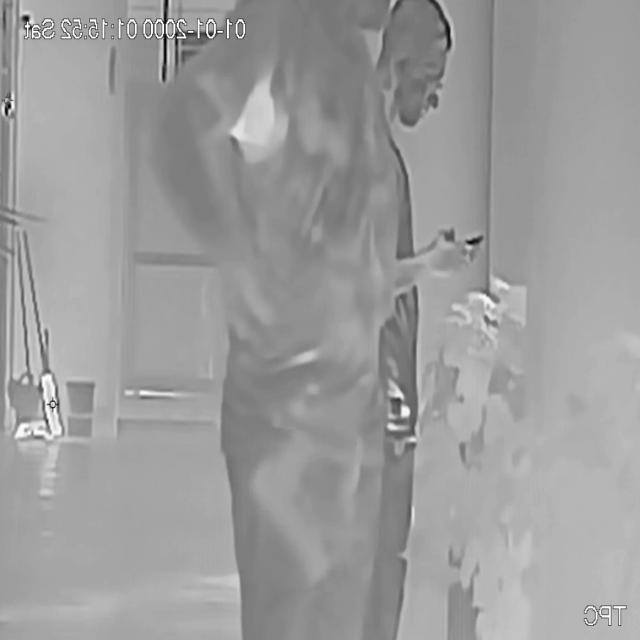Weapon: (245, 428, 354, 592)
